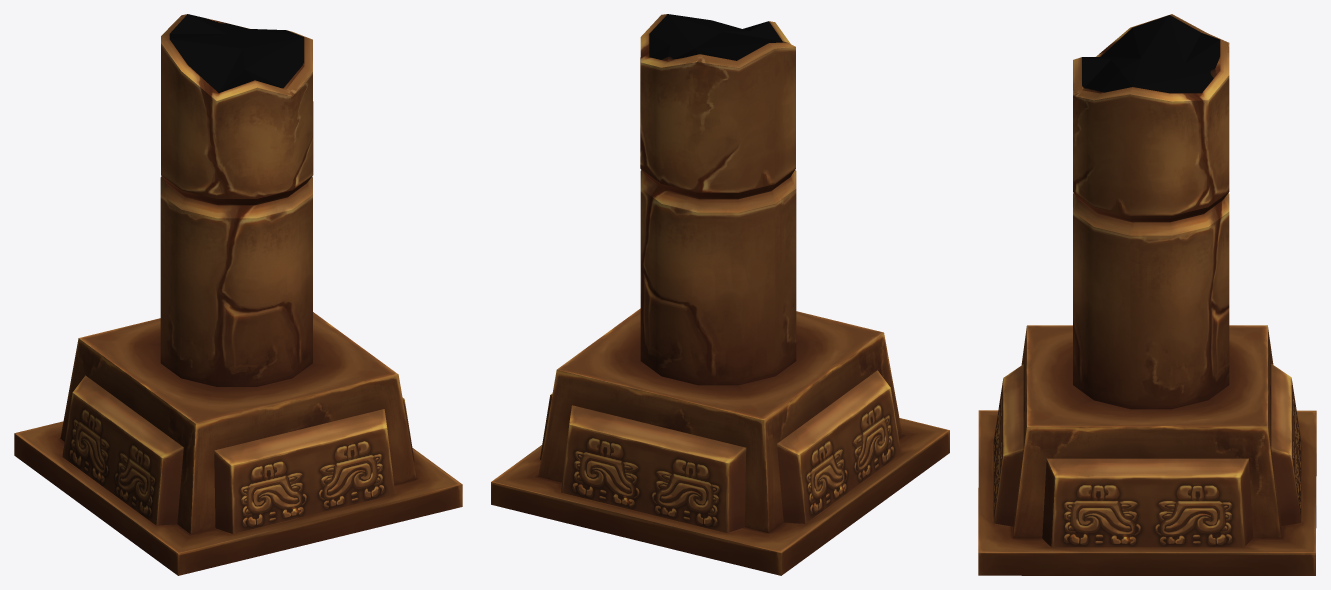
The model's file is 1013_gidoong_bbushim.FBX.
3 views of the same model, side by side, from view 1: azimuth 30°, elevation 25°; view 2: azimuth 150°, elevation 25°; view 3: azimuth 270°, elevation 25° (orthographic). The views are drawn at different scales.
Visible parts, largest first — view 1: Object002; view 2: Object002; view 3: Object002.
Part boxes in pixels (box(x1,y1,x2,y2)): Object002: box(14, 14, 462, 575); Object002: box(491, 14, 949, 575); Object002: box(978, 14, 1316, 575).
Size of the model in its own units: 89.64 by 135 by 89.86.
